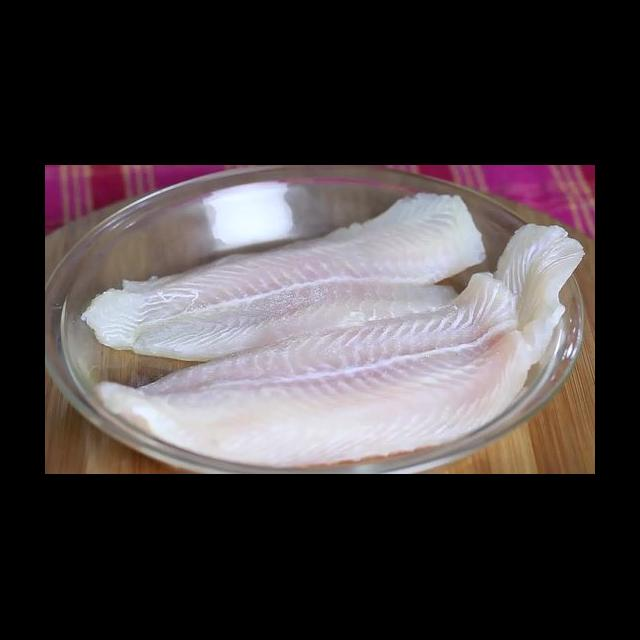fish: (87, 269, 538, 471)
